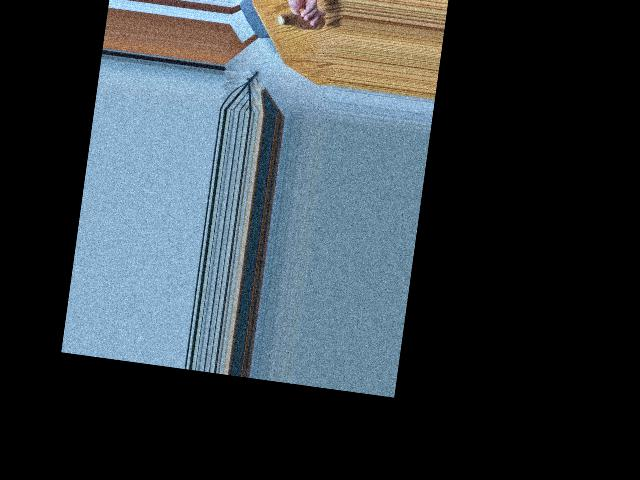sweet_potato: (275, 6, 327, 32)
